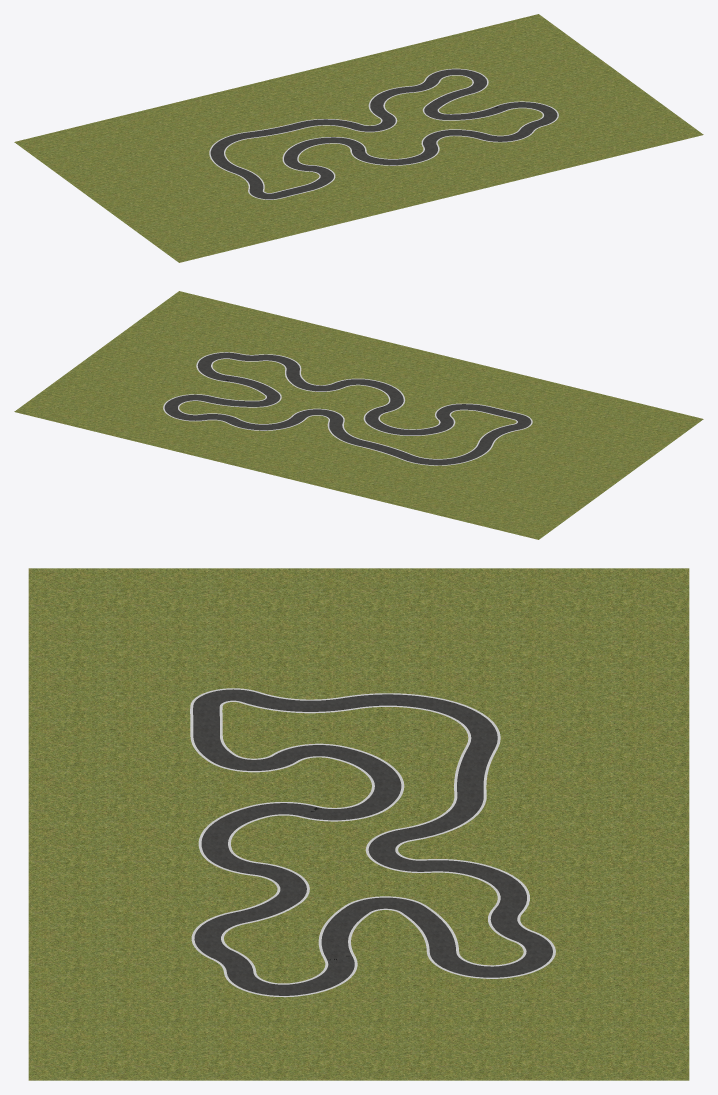
Rendered from track13.dae.
The picture shows the model from 3 angles, top to bottom: view 1: azimuth 30°, elevation 25°; view 2: azimuth 150°, elevation 25°; view 3: azimuth 270°, elevation 25°; orthographic projection. The views are drawn at different scales.
Parts seen in each view (by area): view 1: field, road, outerline, innerline; view 2: field, road, outerline, innerline; view 3: field, road, outerline, innerline.
Part boxes in pixels (x1,y1,x2,y2): field: (14,14,703,262); road: (210,69,557,199); outerline: (209,68,558,199); innerline: (224,75,543,193); field: (14,291,703,539); road: (164,352,531,465); outerline: (163,352,532,465); innerline: (178,358,517,459); field: (28,568,689,1080); road: (193,689,552,995); outerline: (190,688,555,997); innerline: (219,700,526,984).
Bounding box in the file's own units: 74.83 × 40.8 × 0.01.
Materials: 3 (3 with a texture image).
